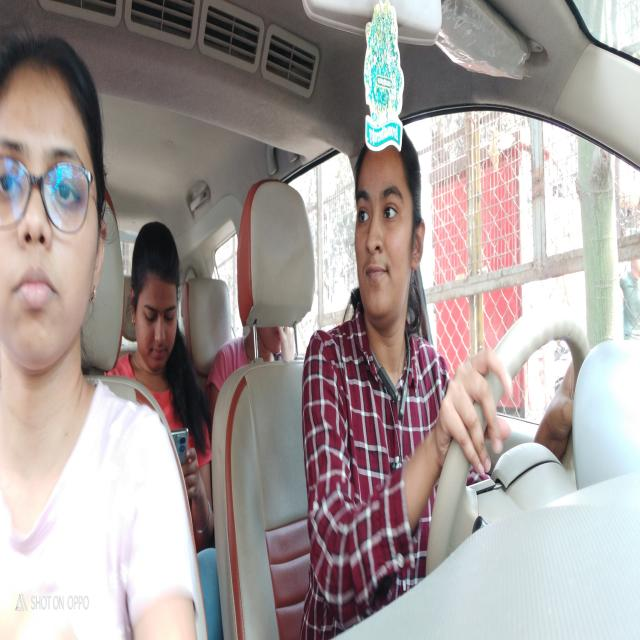LeftRight: (352, 131, 429, 346)
person: (1, 34, 110, 387), (131, 218, 187, 374)
